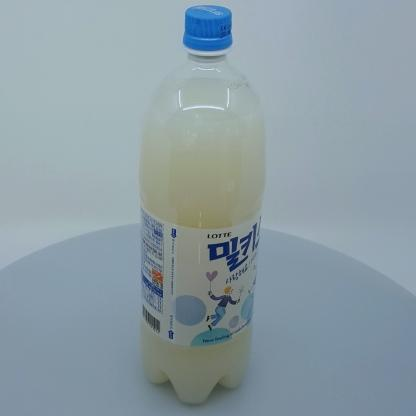-----1-5L: (139, 5, 266, 404)
